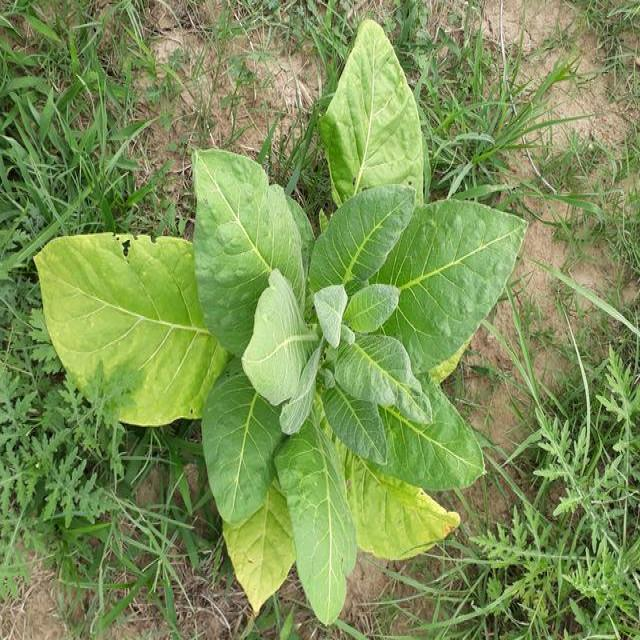crop: (49, 28, 524, 601)
